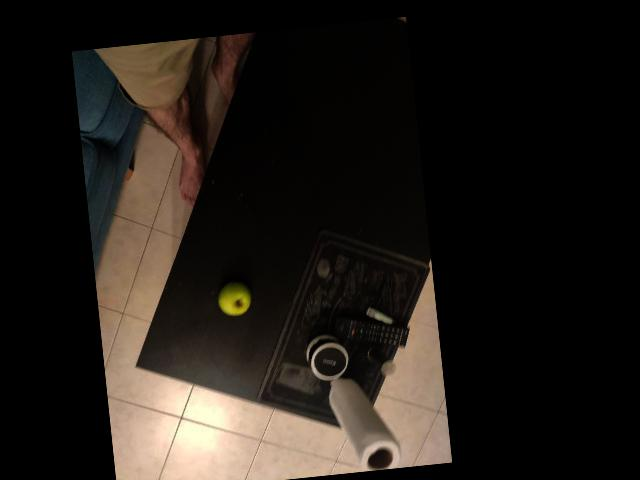apple: (226, 326, 275, 368)
